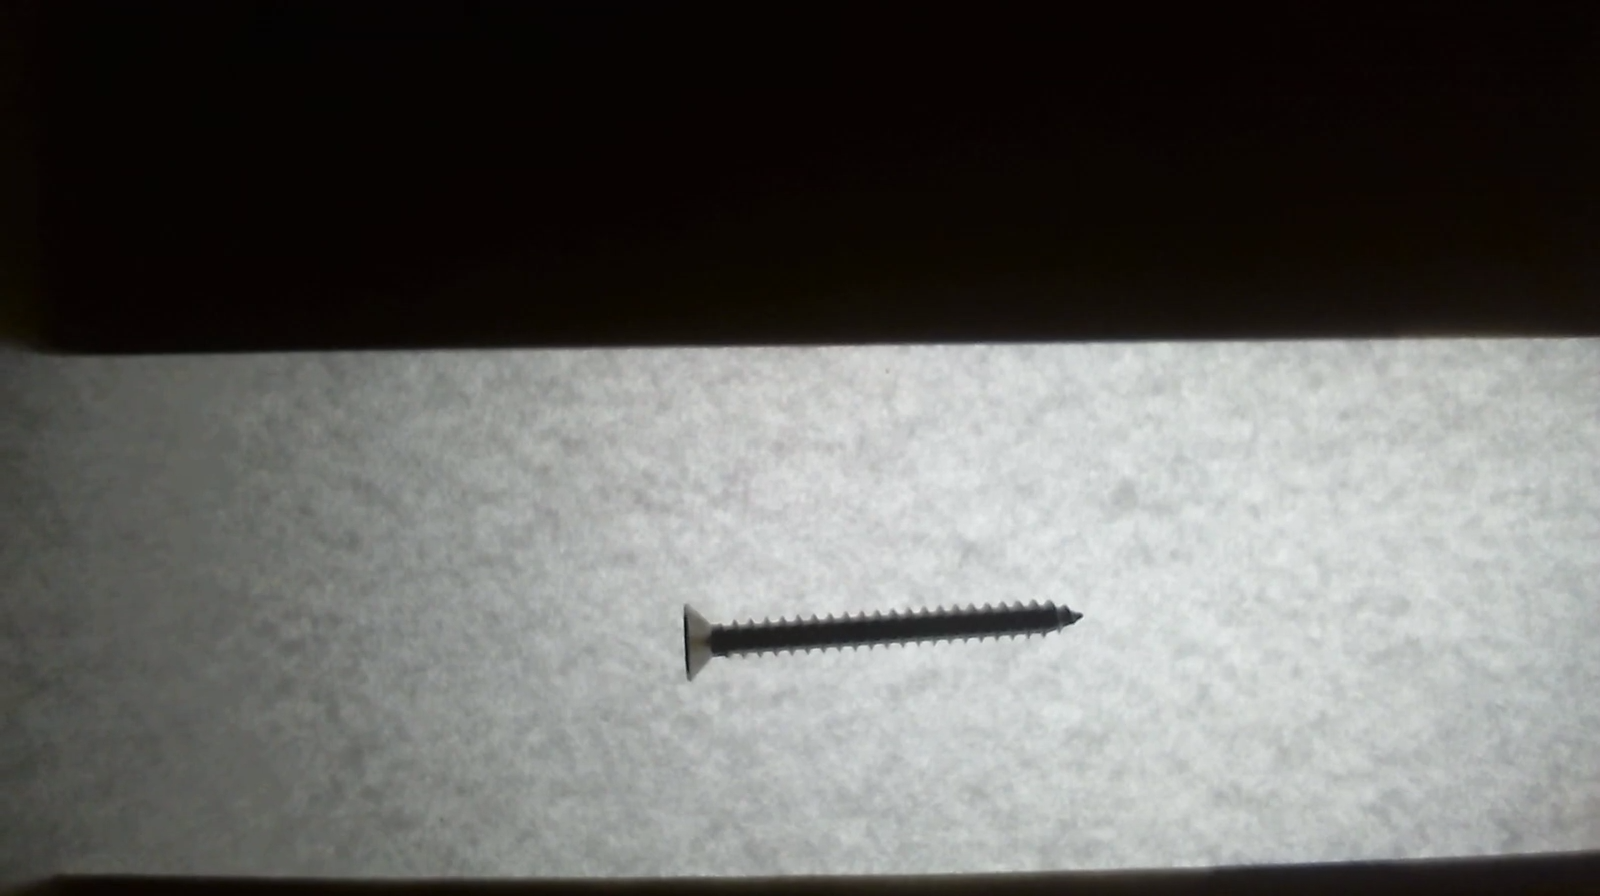S002: (653, 580, 1116, 687)
